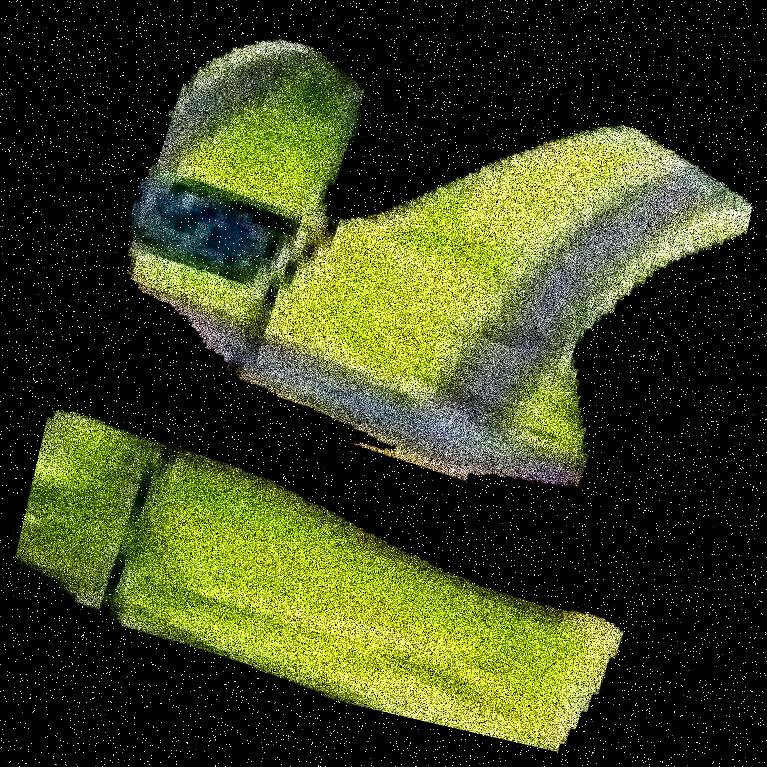Colete: (202, 0, 614, 766)
